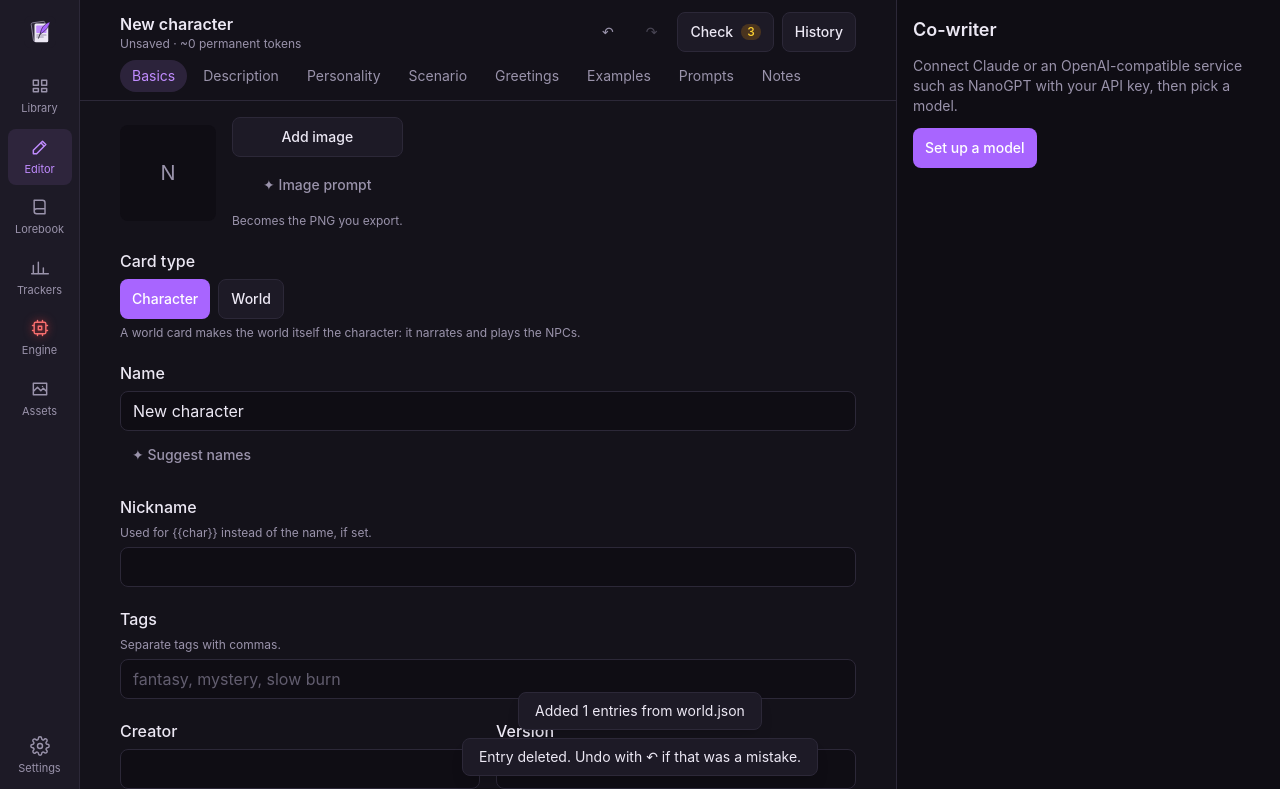
Test: card checker › lists problems and jumps to the lorebook entry
The image size is (1280, 789).
Click the button with aria-label "Check card, 3 problems" at (726,32), box [677,12,774,52]
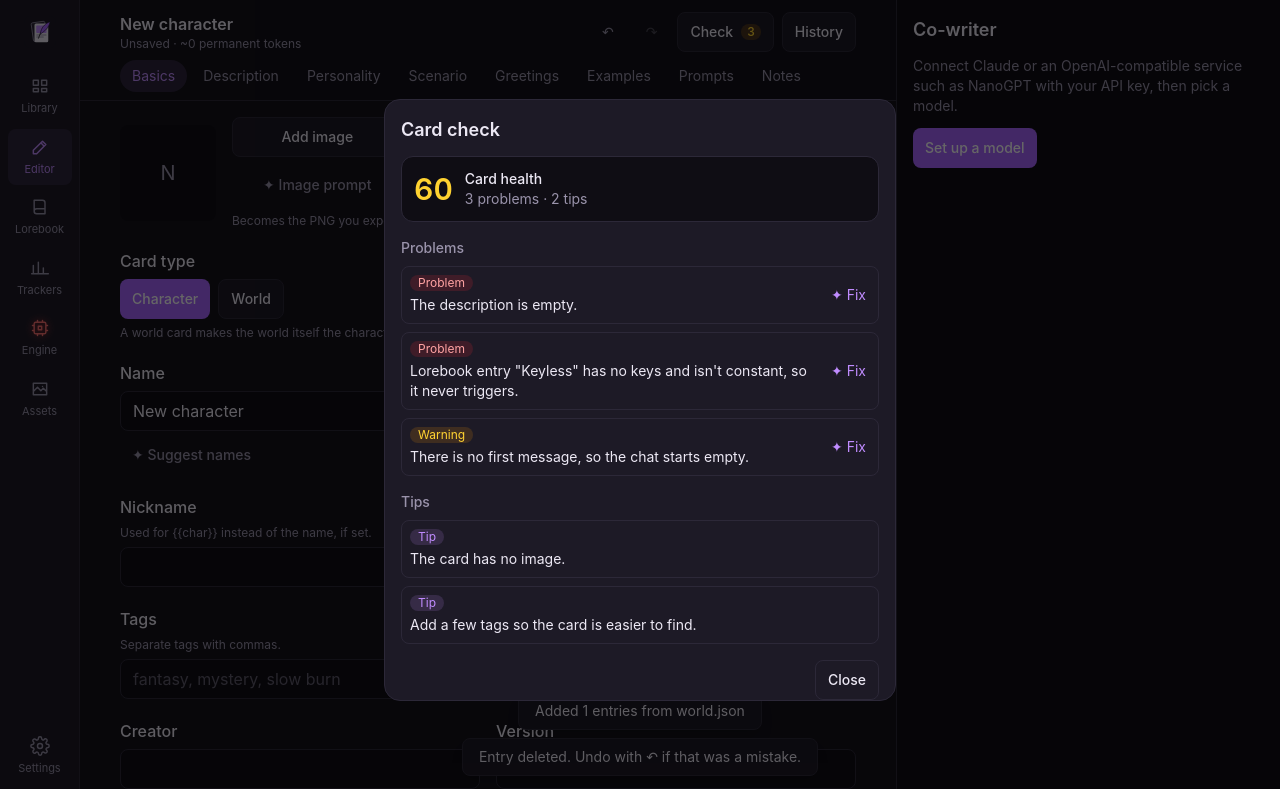
Result: the button "Problem The description is empty." is shown at [402,267,815,323]
Click the button "never triggers" at (608,371), box [402,333,815,409]
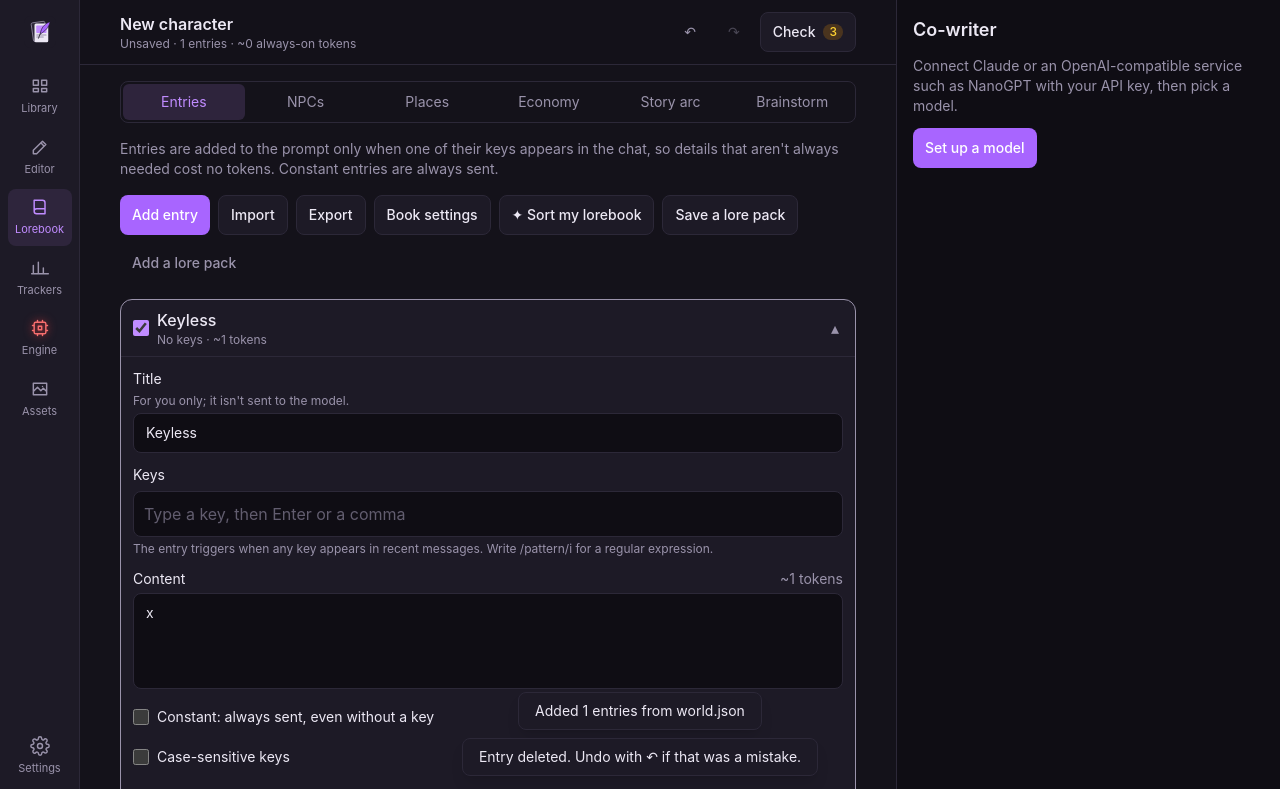
Result: the button "Keyless No keys · ~1 tokens" is shown at [157,308,815,348]
